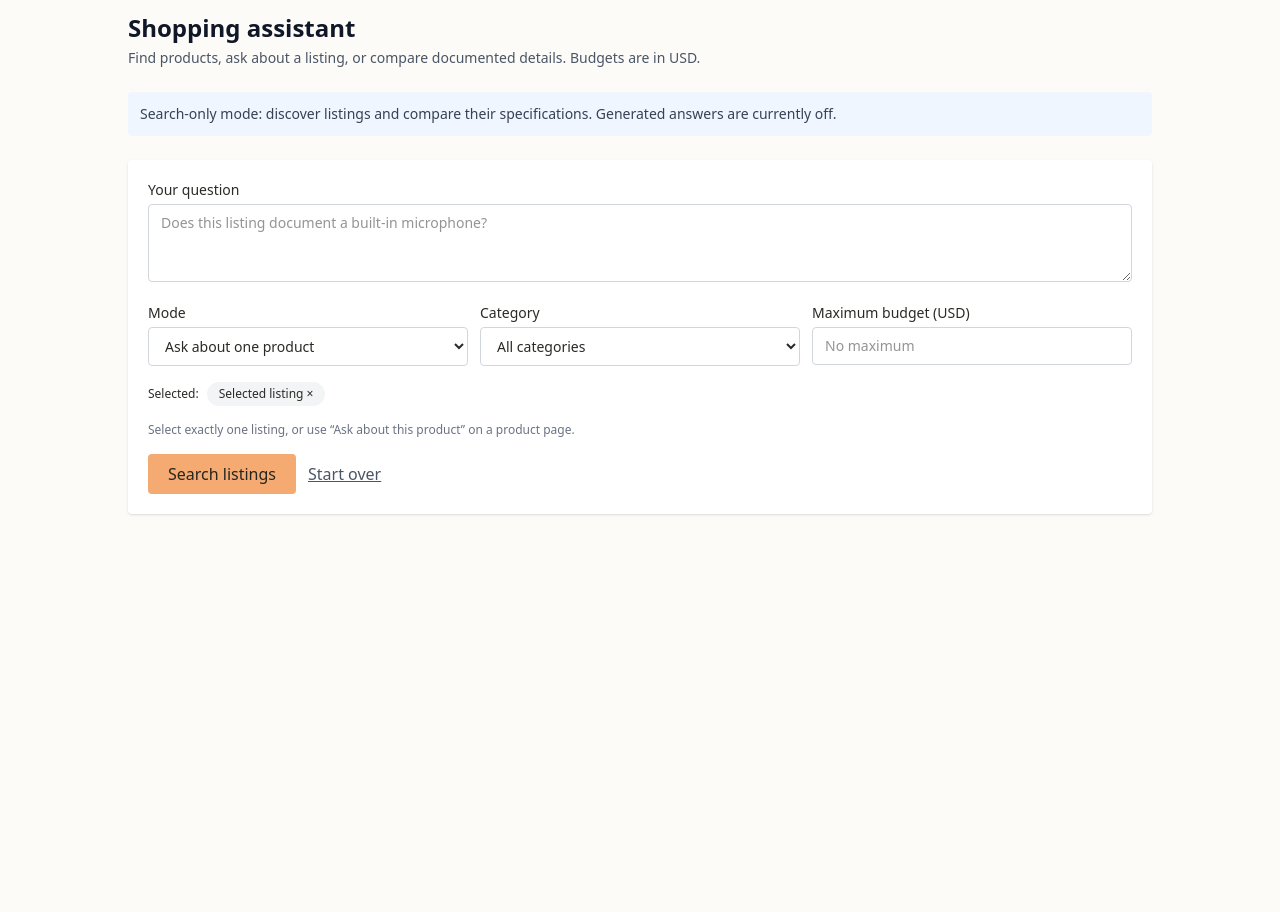
Test case: AssistantPage › passes the selected product ID and uses search-only mode when generation is off
Type "Does it have a microphone?" into the text box labelled "Your question" at {"x": 640, "y": 243}, box [148,204,1132,282]
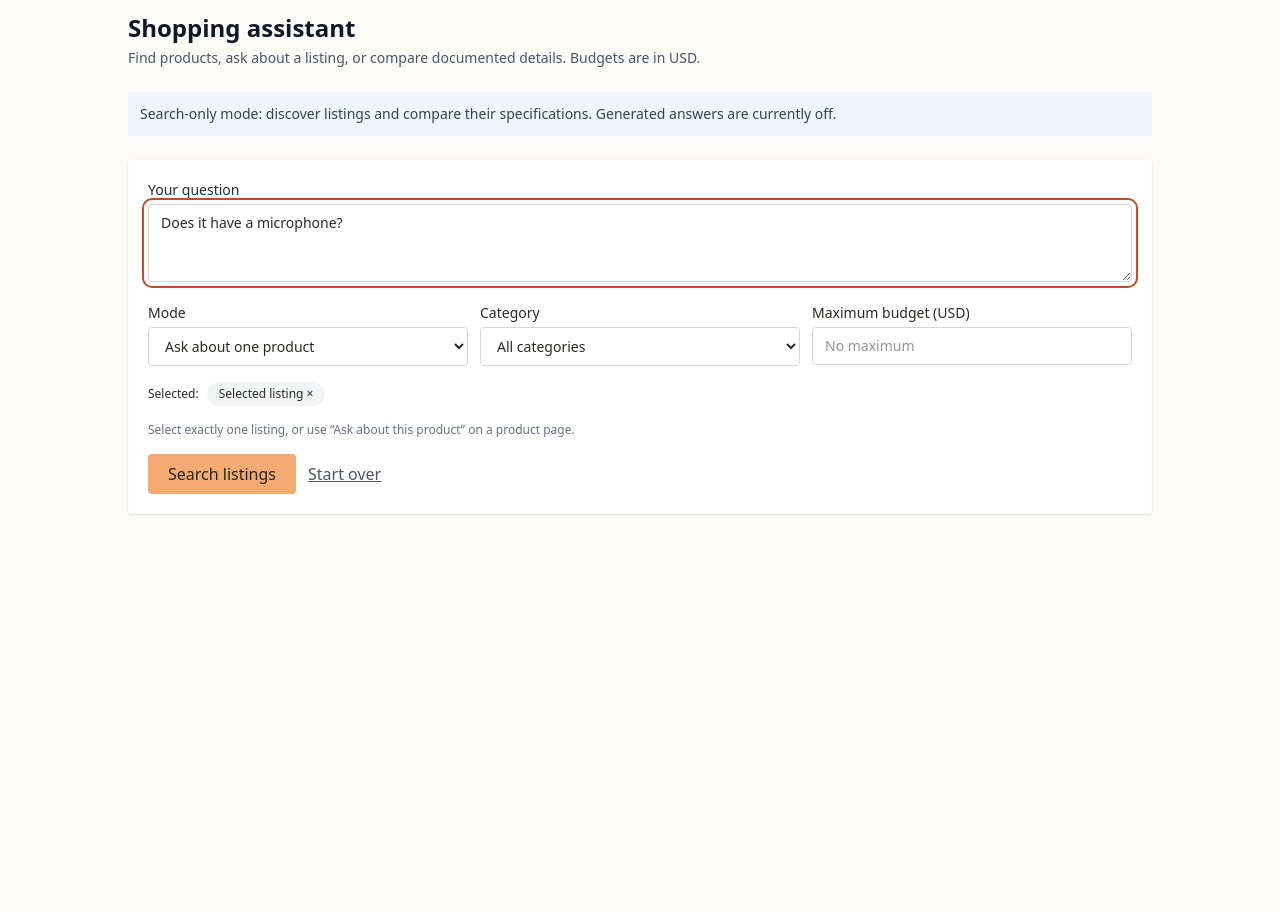
Click the button "Search listings" at {"x": 222, "y": 474}, box [148,454,296,494]
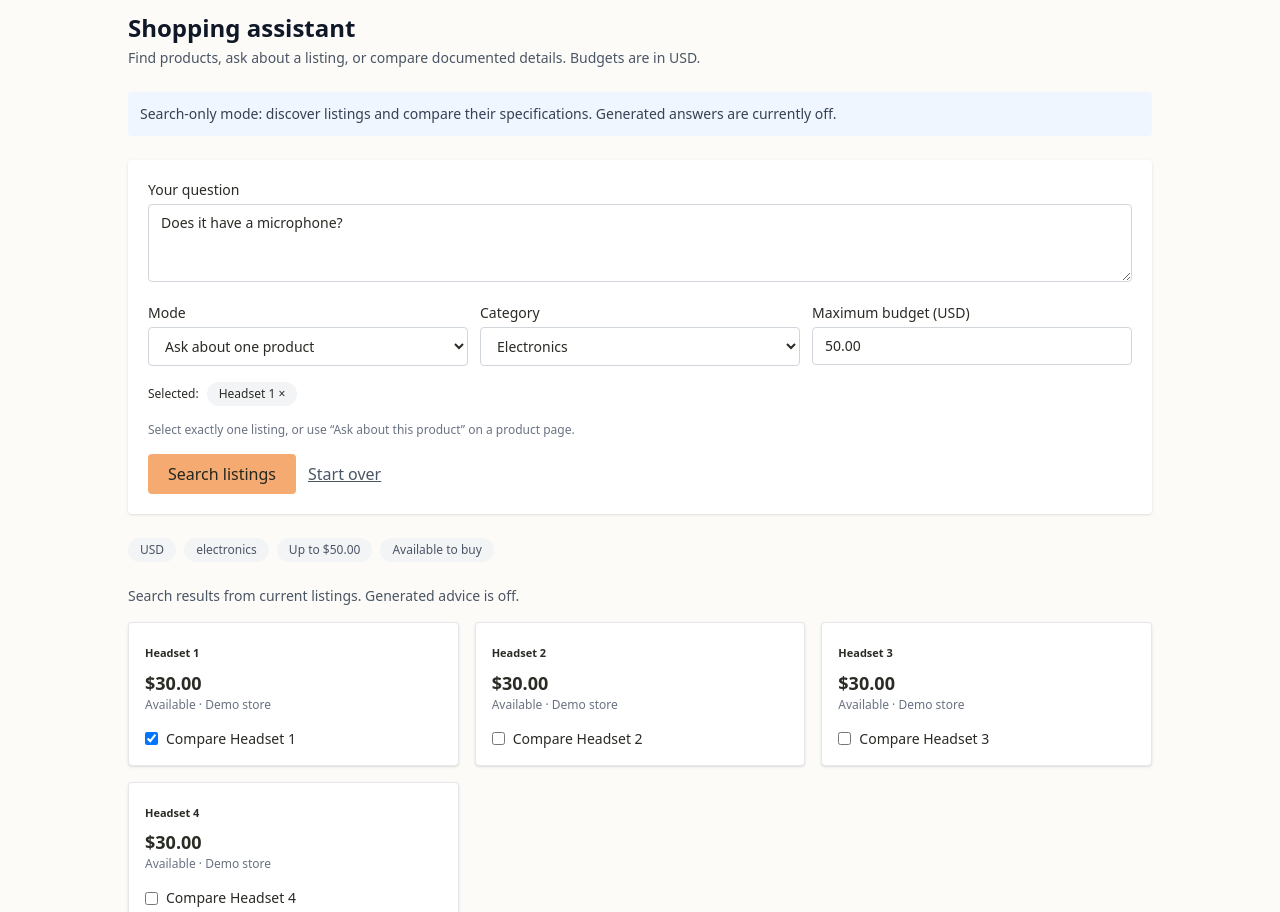
Check: the text "Search results from current listings. Generated advice is off." is shown, box [128,586,519,605]
